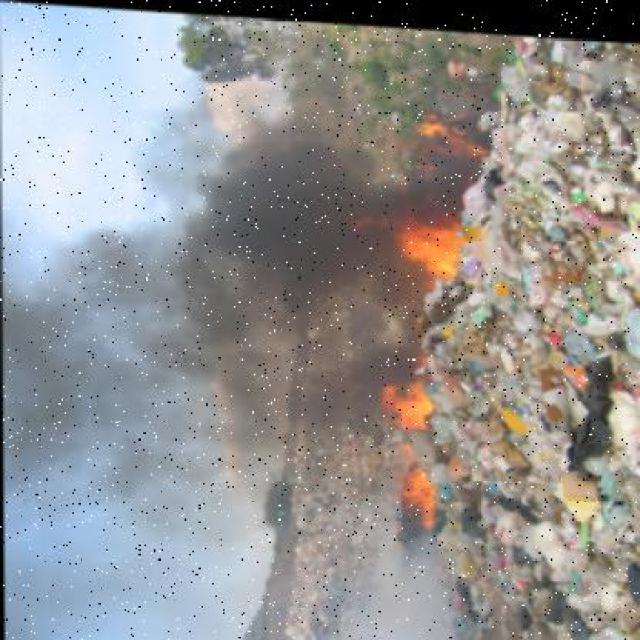fire: (391, 168, 476, 523)
